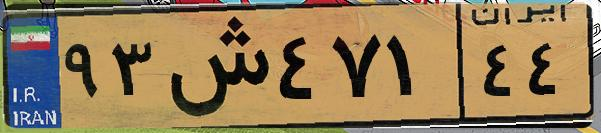1: (385, 28, 445, 110)
3: (110, 28, 158, 98)
4: (270, 28, 330, 110), (475, 38, 525, 113), (525, 38, 570, 115)
7: (330, 28, 385, 110)
9: (57, 26, 110, 100)
ش: (158, 12, 270, 120)
